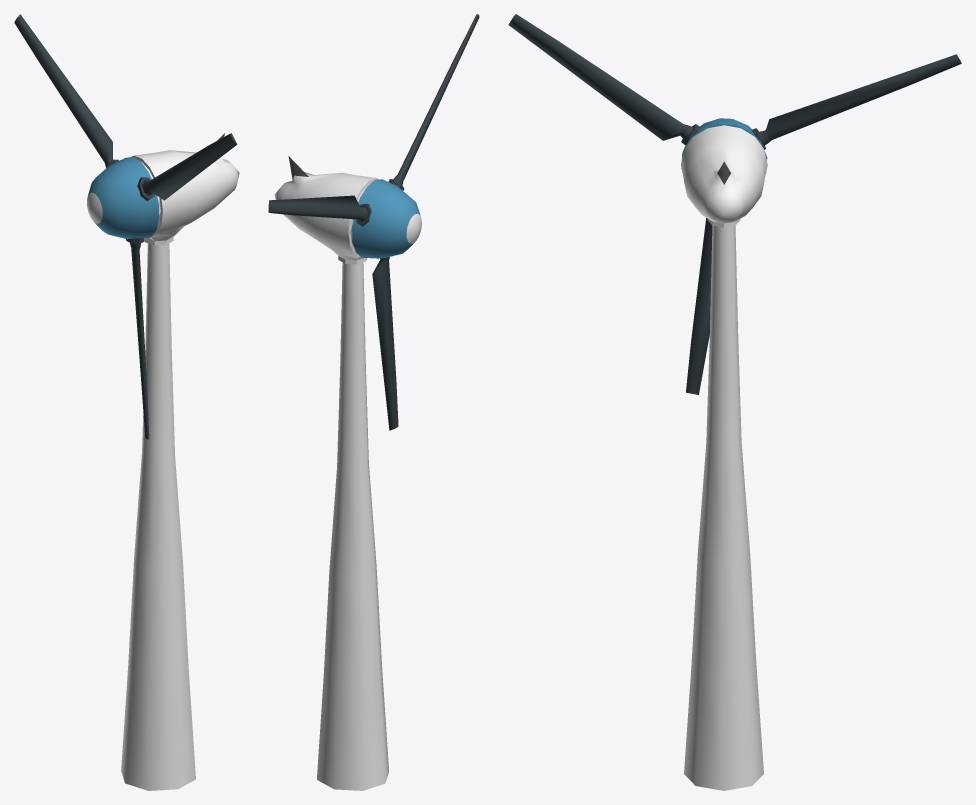
File: windmill.fbx
3 renders of one model, left to right at view 1: azimuth 30°, elevation 25°; view 2: azimuth 150°, elevation 25°; view 3: azimuth 270°, elevation 25°, orthographic. The views are drawn at different scales.
Parts seen in each view (by area): view 1: pole, motor_2; view 2: pole, motor_2; view 3: pole, motor_2.
Boxes of the visible parts, x1,y1,x2,y2 form: pole: [121, 133, 239, 790]; motor_2: [14, 14, 237, 439]; pole: [274, 156, 388, 790]; motor_2: [268, 14, 479, 430]; pole: [681, 125, 767, 790]; motor_2: [508, 14, 961, 394].
Size of the model in its own units: 4097 by 18950 by 10442.
Materials: 1 (1 with a texture image).
